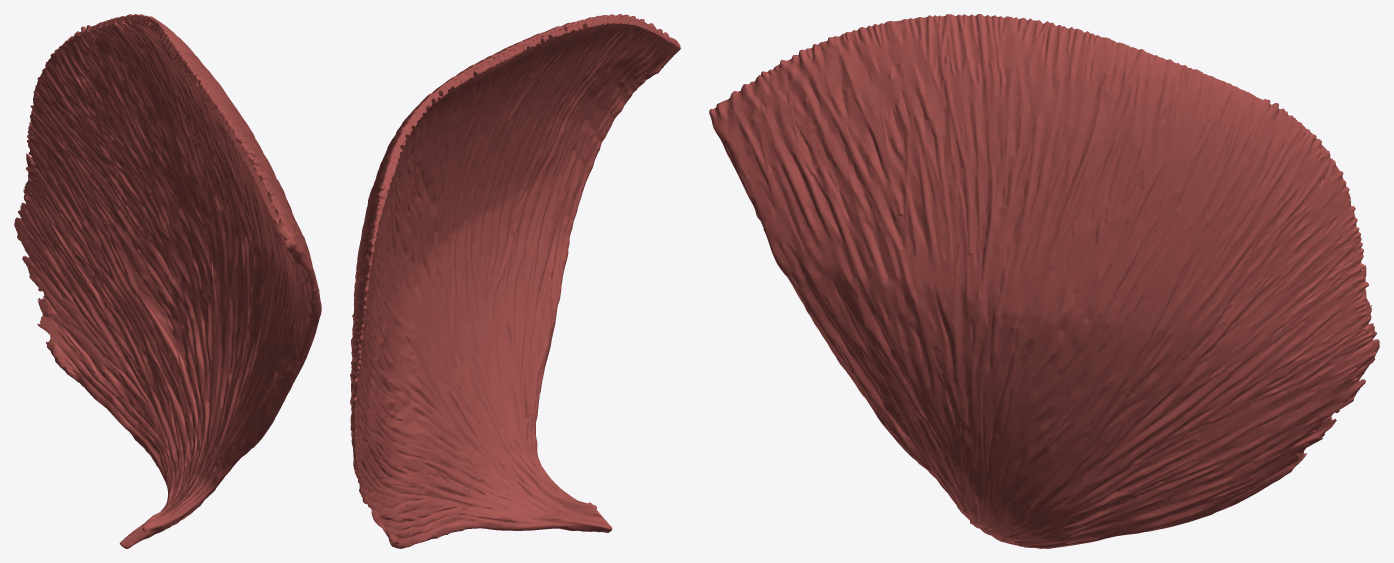
Rendered from FMA46764.glb.
3 views of the same model, side by side, from view 1: azimuth 30°, elevation 25°; view 2: azimuth 150°, elevation 25°; view 3: azimuth 270°, elevation 25° (orthographic). The views are drawn at different scales.
Visible parts, largest first — view 1: FMA46764; view 2: FMA46764; view 3: FMA46764.
Part boxes in pixels (<box>): FMA46764: <box>14,14,321,548</box>; FMA46764: <box>350,14,680,548</box>; FMA46764: <box>709,14,1379,548</box>.
Size of the model in its own units: 0.037 by 0.0996 by 0.1131.
